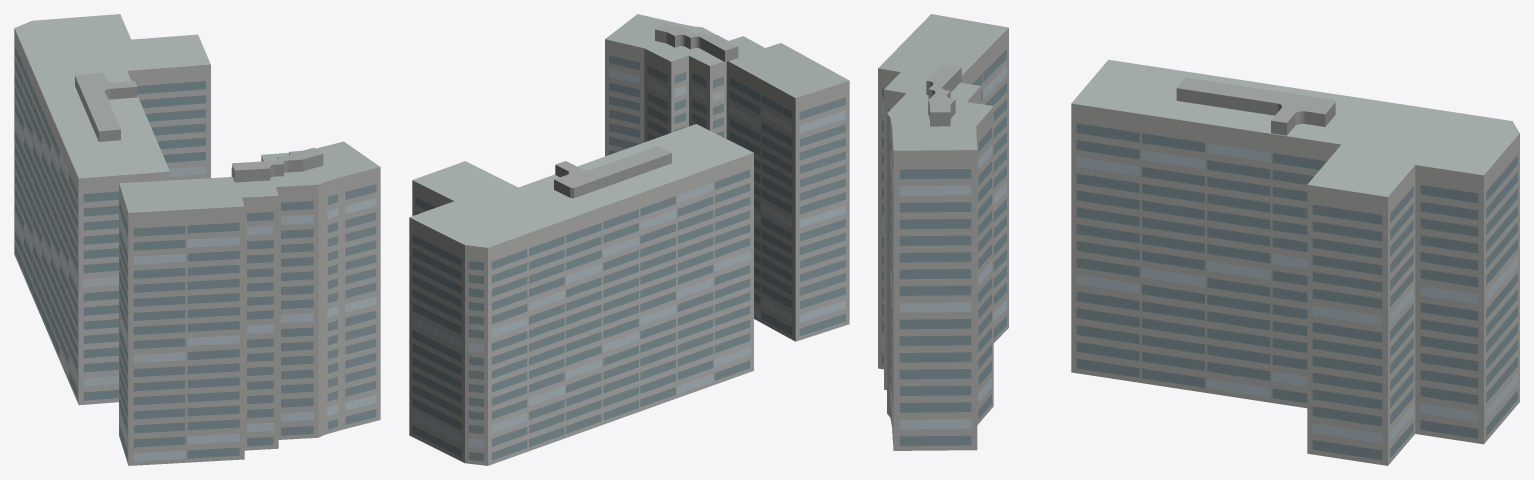
The model's file is apt-a13882401.glb.
3 views of the same model, side by side, from view 1: azimuth 30°, elevation 25°; view 2: azimuth 150°, elevation 25°; view 3: azimuth 270°, elevation 25° (orthographic). The views are drawn at different scales.
Visible parts, largest first — view 1: apt-a13882401; view 2: apt-a13882401; view 3: apt-a13882401.
Part boxes in pixels (bbox=[...]): apt-a13882401: bbox=[14, 14, 380, 465]; apt-a13882401: bbox=[409, 14, 849, 465]; apt-a13882401: bbox=[878, 14, 1519, 465].
Bounding box in the file's own units: 49.7 × 48 × 88.8.
